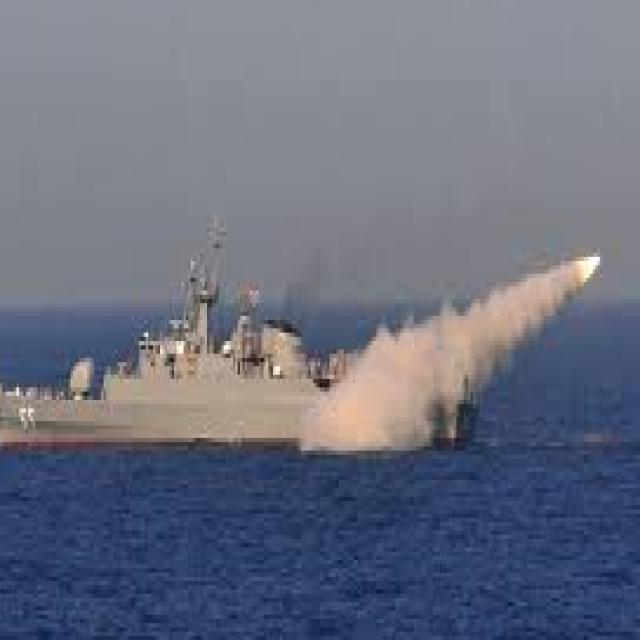navalvessels: (0, 227, 499, 459)
